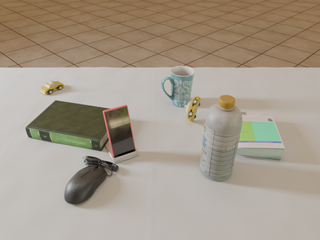book: (26, 100, 109, 151), (236, 111, 285, 161)
bottle: (200, 95, 242, 181)
cup: (161, 66, 195, 107)
mouse: (64, 156, 119, 204)
phone: (103, 105, 136, 158)
toy_car: (185, 96, 201, 122), (40, 80, 64, 95)
